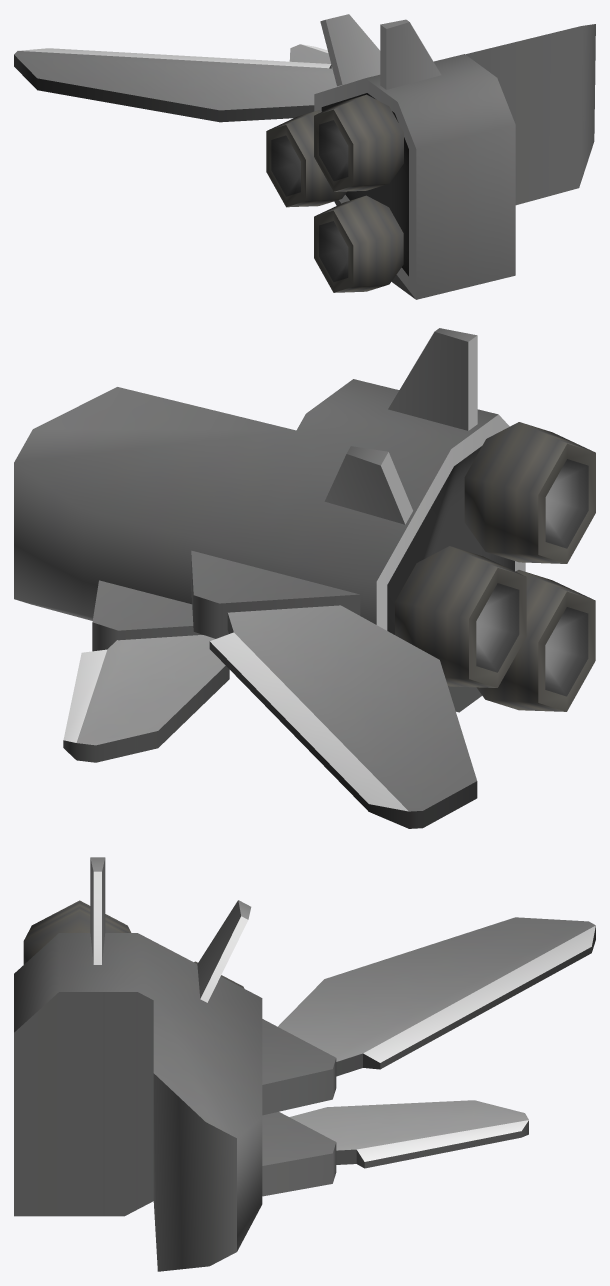
File: Jet2L.fbx
The picture shows the model from 3 angles, top to bottom: view 1: azimuth 30°, elevation 25°; view 2: azimuth 150°, elevation 25°; view 3: azimuth 270°, elevation 25°; orthographic projection. The views are drawn at different scales.
Visible parts, largest first — view 1: Jet2L.0, Jet2L.005, Jet2L.002, Jet2L.003, Jet2L.004, Jet2L.001, Jet2L.006; view 2: Jet2L.0, Jet2L.005, Jet2L.002, Jet2L.006, Jet2L.001, Jet2L.004, Jet2L.003; view 3: Jet2L.0, Jet2L.005, Jet2L.006, Jet2L.004, Jet2L.002.
Part boxes in pixels (box(x1,y1,x2,y2)): Jet2L.0: box(314, 24, 595, 299); Jet2L.005: box(14, 48, 341, 122); Jet2L.002: box(314, 94, 403, 191); Jet2L.003: box(314, 195, 403, 292); Jet2L.004: box(320, 14, 441, 89); Jet2L.001: box(266, 110, 346, 207); Jet2L.006: box(289, 44, 332, 68); Jet2L.0: box(14, 379, 525, 712); Jet2L.005: box(209, 605, 477, 828); Jet2L.002: box(464, 422, 595, 563); Jet2L.006: box(63, 635, 229, 762); Jet2L.001: box(395, 546, 526, 687); Jet2L.004: box(324, 328, 477, 524); Jet2L.003: box(476, 570, 595, 711); Jet2L.0: box(14, 933, 336, 1271); Jet2L.005: box(278, 917, 595, 1076); Jet2L.006: box(289, 1100, 528, 1168); Jet2L.004: box(90, 857, 251, 1002); Jet2L.002: box(23, 900, 131, 964).
Bounding box in the file's own units: 2.17 × 1.22 × 2.08.
